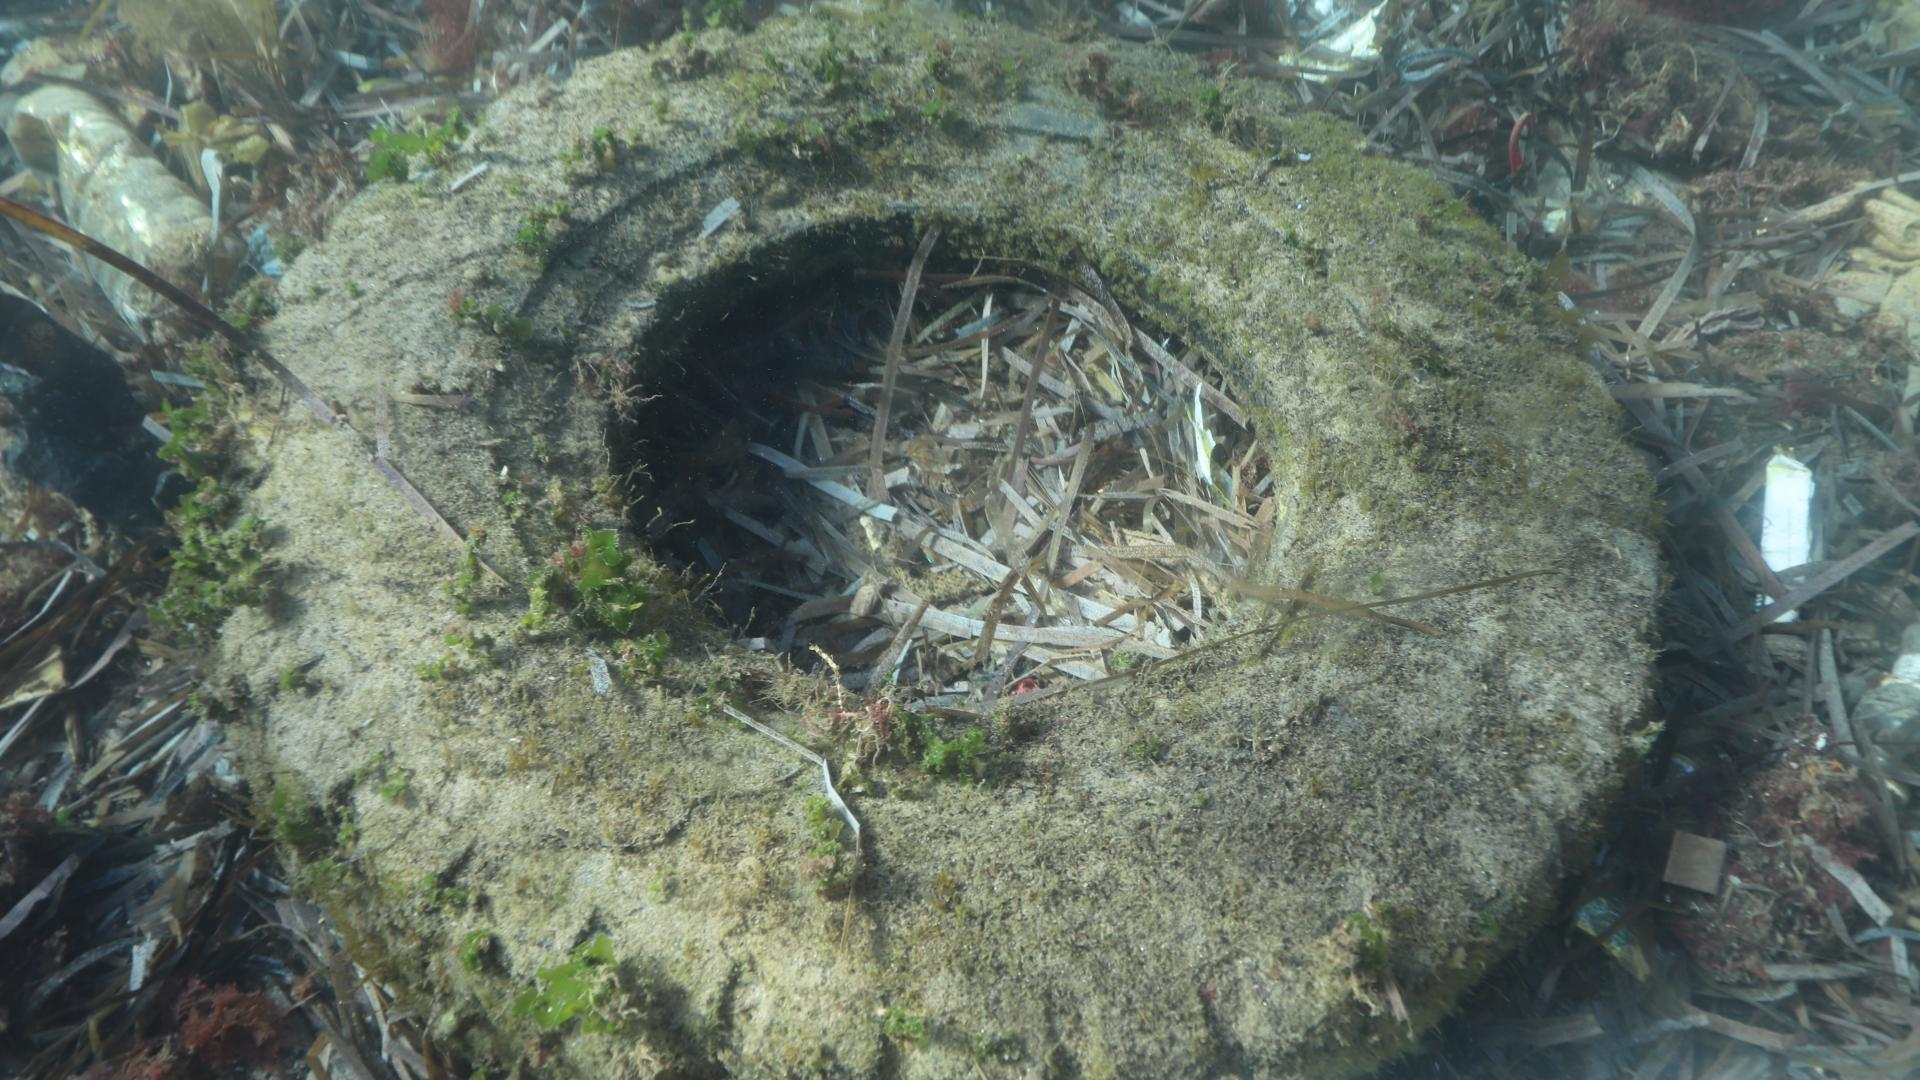tire: (214, 9, 1665, 1079)
